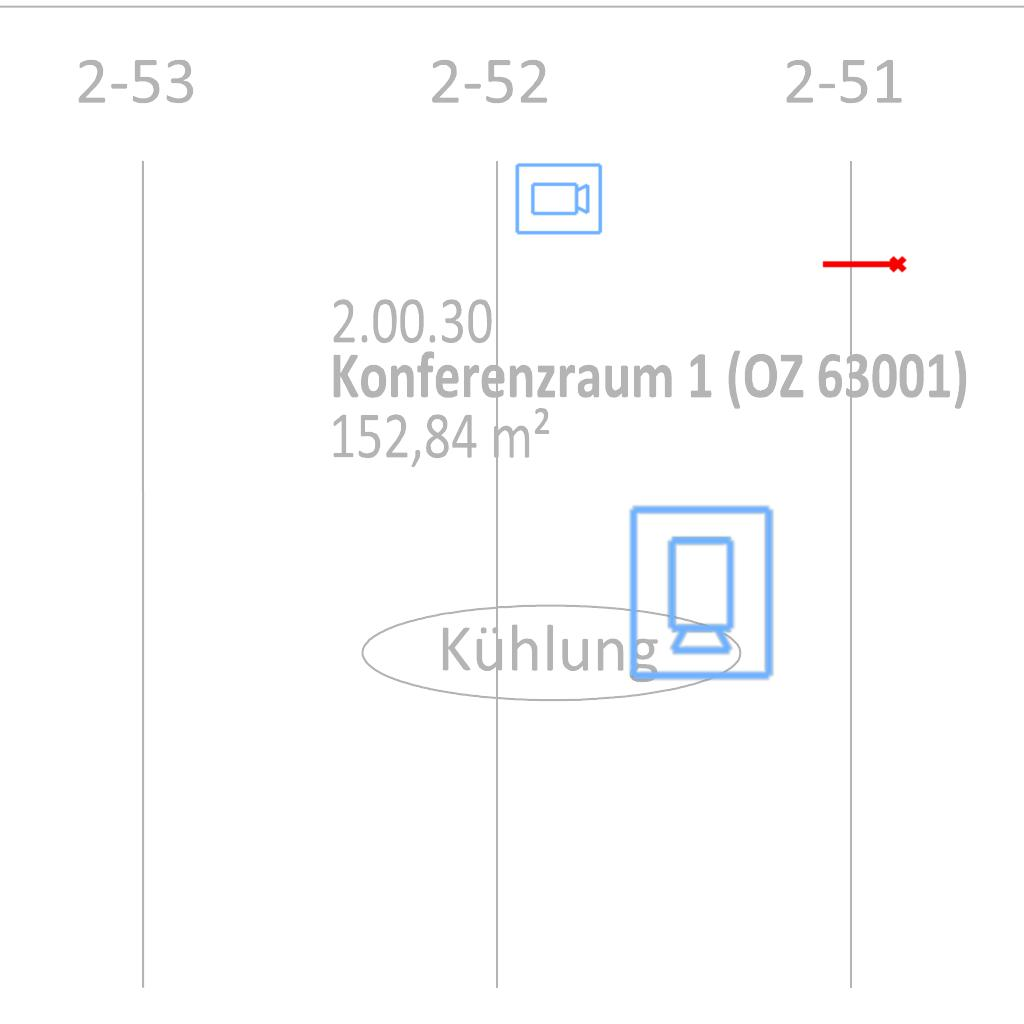ASR_Ansaugoeffnung: (820, 254, 908, 277)
KFO_Kamera_mit_Festobjektiv: (623, 501, 777, 683), (513, 161, 604, 238)
